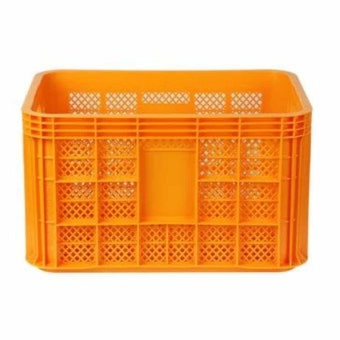plastic: (21, 67, 311, 272)
